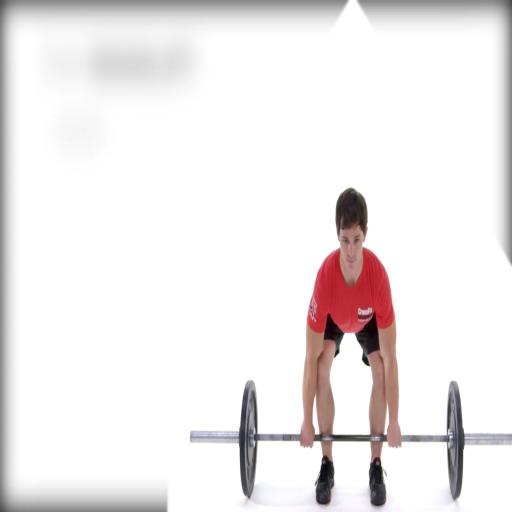exercise: (298, 186, 403, 508)
